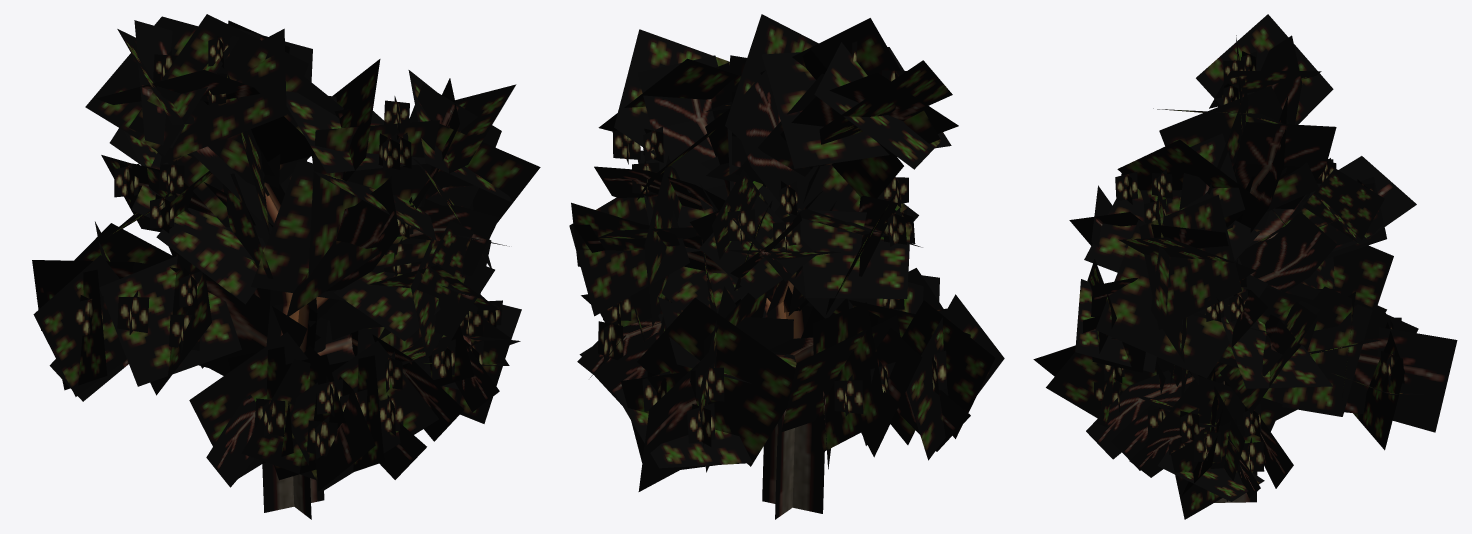
Rendered from Mänty_3.fbx.
The picture shows the model from 3 angles, left to right: view 1: azimuth 30°, elevation 25°; view 2: azimuth 150°, elevation 25°; view 3: azimuth 270°, elevation 25°; orthographic projection. The views are drawn at different scales.
Parts seen in each view (by area): view 1: Mänty.002; view 2: Mänty.002; view 3: Mänty.002.
Boxes of the visible parts, x1,y1,x2,y2 form: Mänty.002: (32,14,540,519); Mänty.002: (569,14,1004,519); Mänty.002: (1033,14,1457,519).
Size of the model in its own units: 1491 by 1616 by 1429.
Materials: 1 (1 with a texture image).
